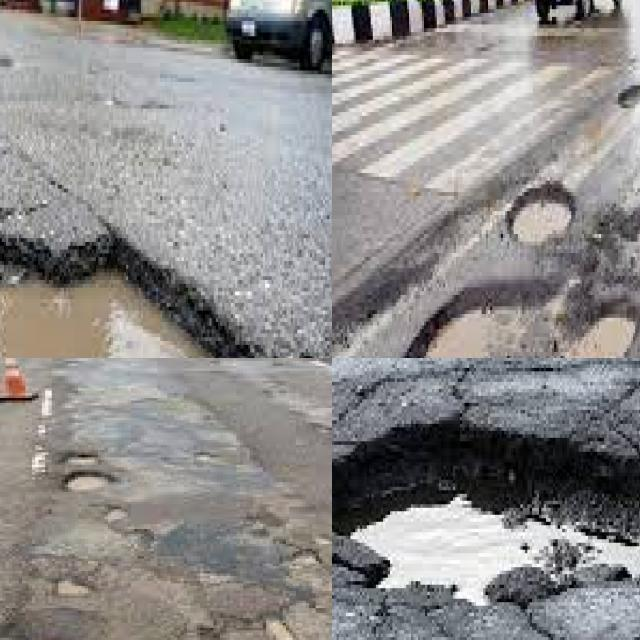Pothole: (332, 427, 640, 606), (423, 272, 637, 358), (503, 184, 575, 249), (62, 457, 111, 494), (605, 226, 640, 271)
